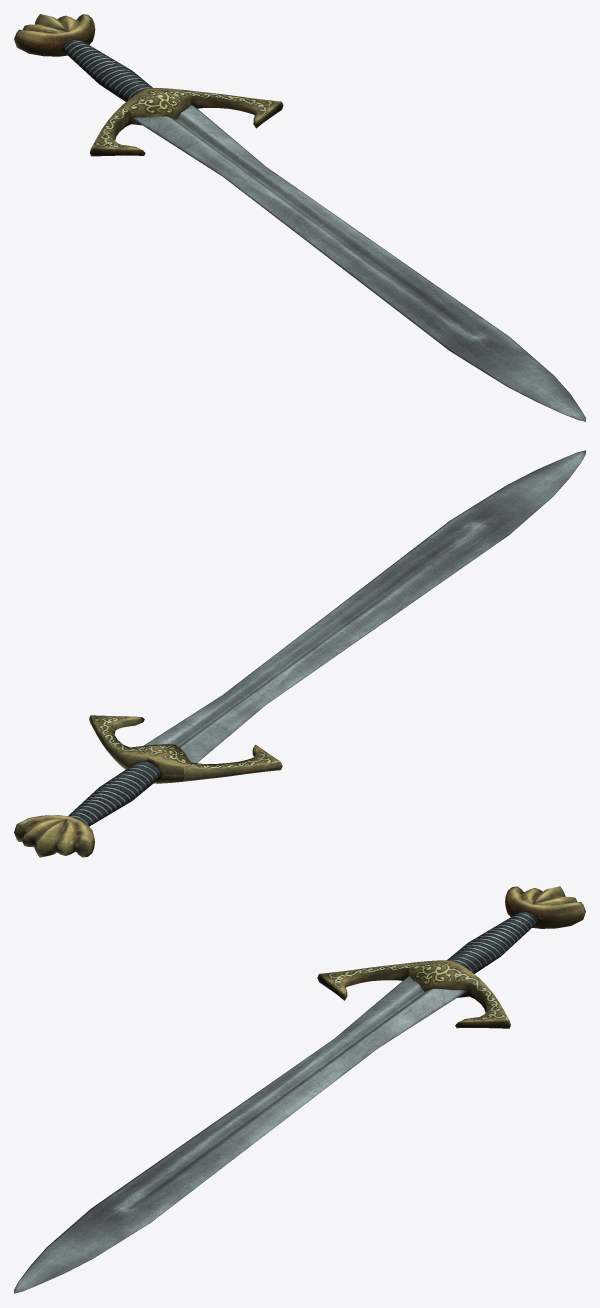
File: 2H_Sword_B.FBX
3 renders of one model, top to bottom at view 1: azimuth 30°, elevation 25°; view 2: azimuth 150°, elevation 25°; view 3: azimuth 330°, elevation 25°, orthographic.
Visible parts, largest first — view 1: 2H_Sword_B; view 2: 2H_Sword_B; view 3: 2H_Sword_B.
Boxes of the visible parts, bbox=[...] form: 2H_Sword_B: bbox=[14, 14, 585, 421]; 2H_Sword_B: bbox=[14, 450, 585, 857]; 2H_Sword_B: bbox=[14, 886, 585, 1293].
Bounding box in the file's own units: 31.01 × 4.73 × 152.
